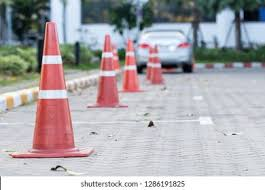car: (135, 30, 192, 74)
cone: (12, 22, 87, 158), (85, 33, 128, 108), (119, 38, 144, 92), (152, 49, 163, 85), (110, 45, 123, 72)
